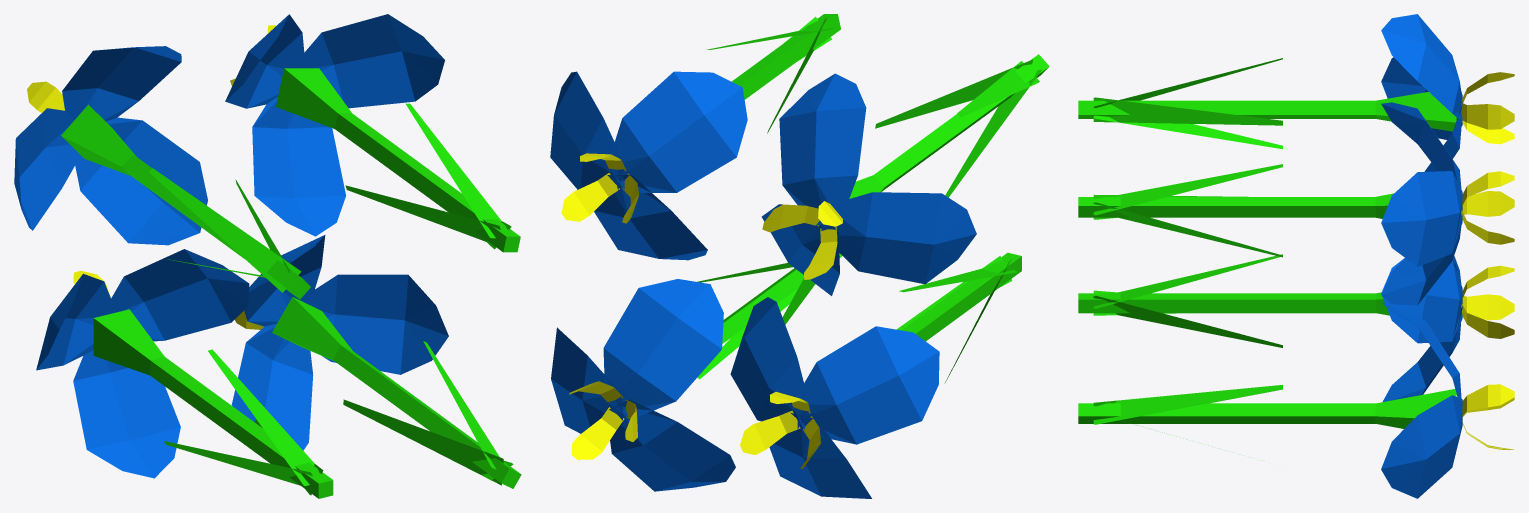
The model's file is Unshoubu.fbx.
The picture shows the model from 3 angles, left to right: view 1: azimuth 30°, elevation 25°; view 2: azimuth 150°, elevation 25°; view 3: azimuth 270°, elevation 25°; orthographic projection. The views are drawn at different scales.
Parts seen in each view (by area): view 1: 平面.004; view 2: 平面.004; view 3: 平面.004.
Boxes of the visible parts, x1=… form: 平面.004: x1=14, y1=14, x2=521, y2=498; 平面.004: x1=550, y1=14, x2=1049, y2=498; 平面.004: x1=1078, y1=14, x2=1514, y2=498.
Bounding box in the file's own units: 7.03 × 7.11 × 7.05.
